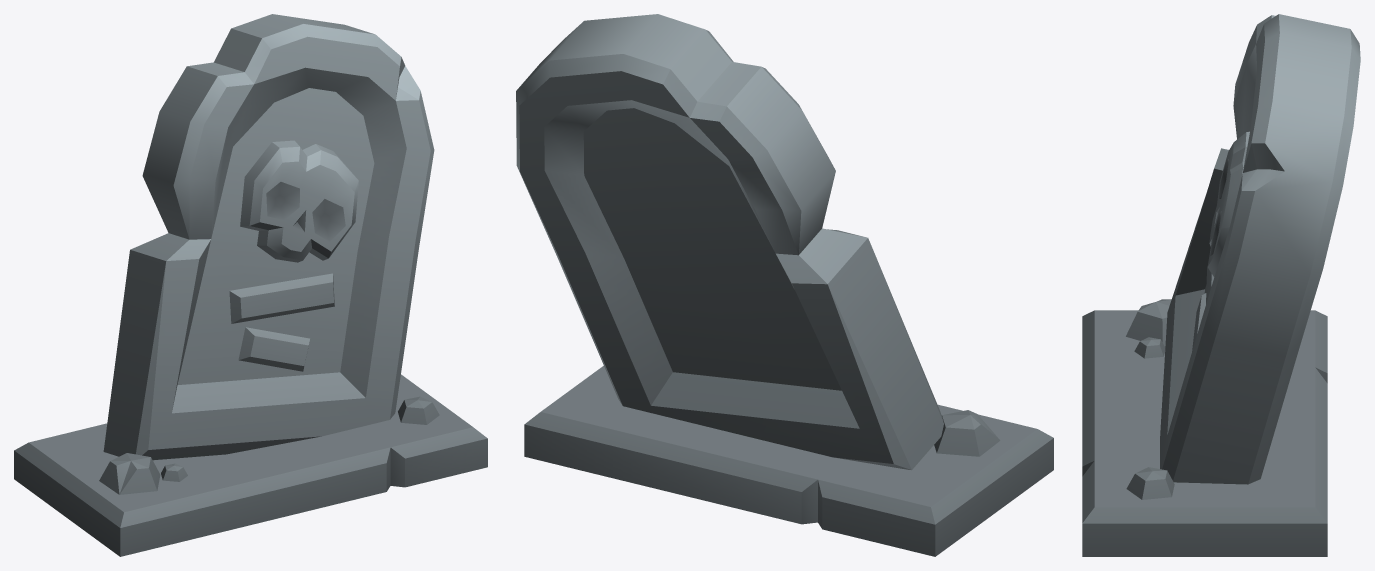
The model's file is Lapida_3.glb.
The picture shows the model from 3 angles, left to right: view 1: azimuth 30°, elevation 25°; view 2: azimuth 150°, elevation 25°; view 3: azimuth 270°, elevation 25°; orthographic projection. The views are drawn at different scales.
Visible parts, largest first — view 1: grave_A_destroyed; view 2: grave_A_destroyed; view 3: grave_A_destroyed.
Part boxes in pixels (bbox=[...]): grave_A_destroyed: bbox=[14, 14, 487, 556]; grave_A_destroyed: bbox=[516, 14, 1053, 556]; grave_A_destroyed: bbox=[1082, 14, 1360, 556].
Bounding box in the file's own units: 1.04 × 1.05 × 0.5676.
Materials: 1 (1 with a texture image).
